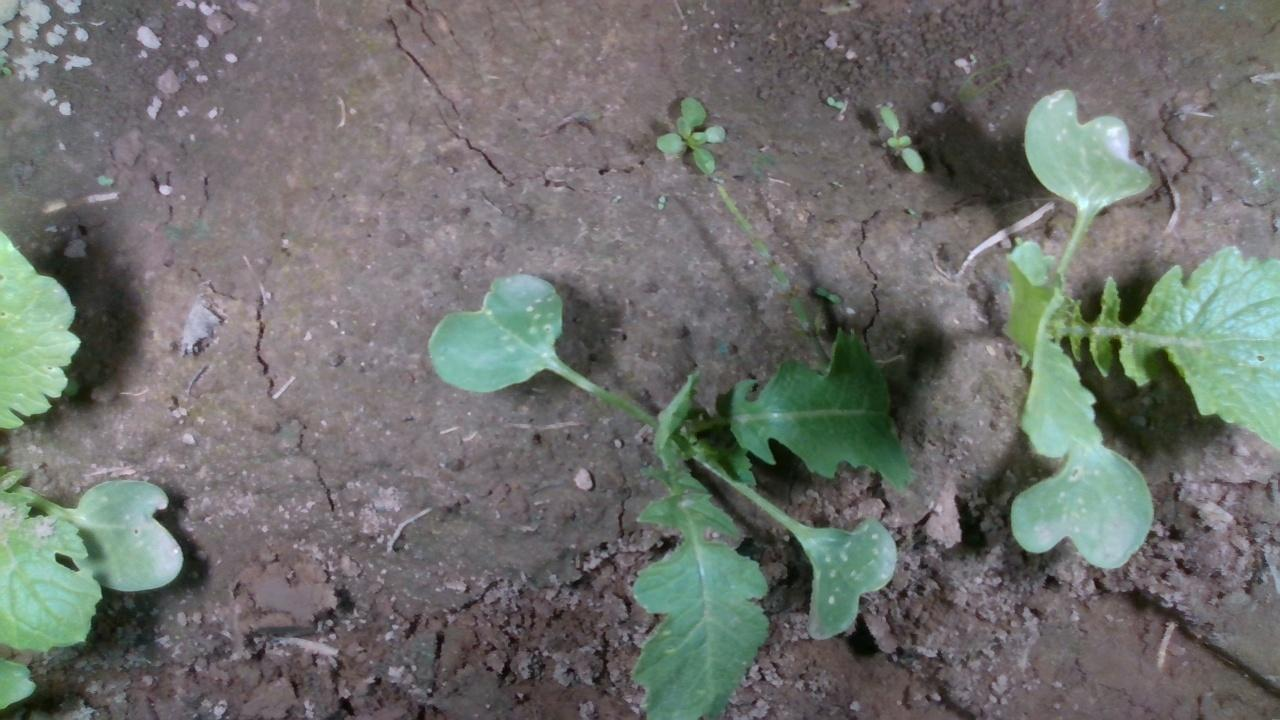weed: (654, 91, 729, 176), (877, 102, 924, 175), (824, 94, 845, 110)
